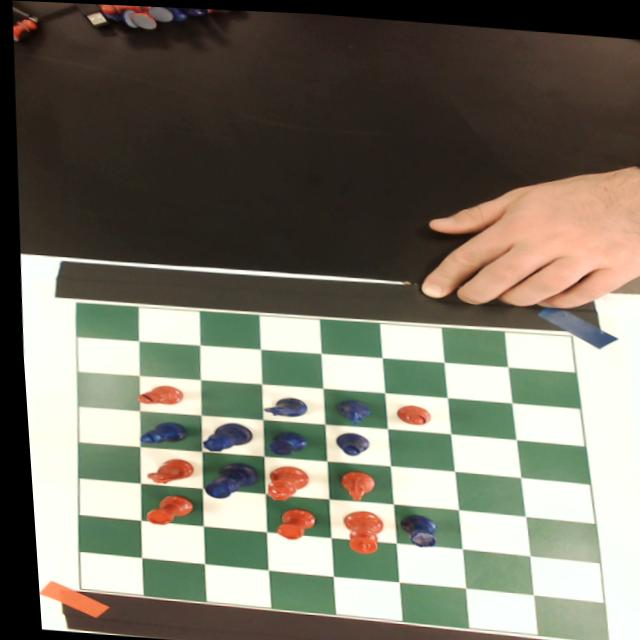B: (128, 418, 186, 446), (325, 428, 367, 454)
K: (194, 457, 253, 501)
N: (324, 394, 370, 424), (256, 391, 302, 418)
Q: (192, 418, 251, 454)
R: (389, 509, 432, 545), (259, 426, 299, 457)
b: (127, 381, 180, 406), (386, 399, 426, 423)
k: (332, 506, 379, 552)
n: (135, 453, 189, 487), (331, 466, 370, 500)
q: (256, 461, 303, 501)
r: (133, 490, 188, 528), (265, 504, 309, 539)
